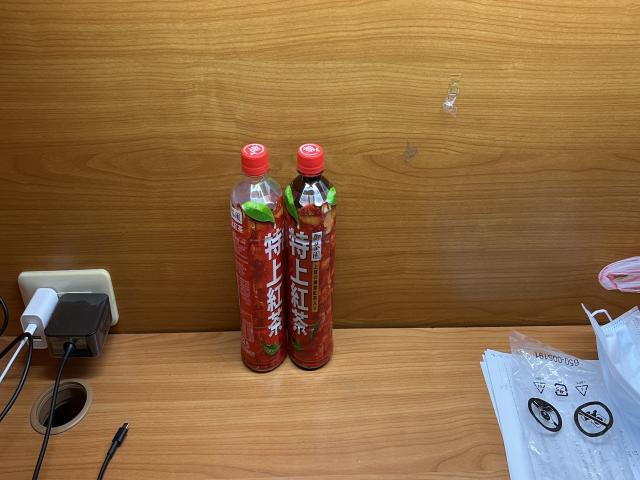bottle: (229, 140, 288, 374), (284, 139, 336, 374)
